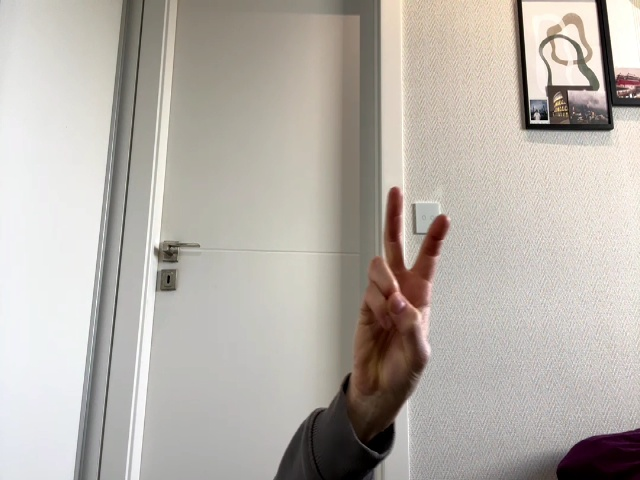H: (353, 187, 452, 408)
